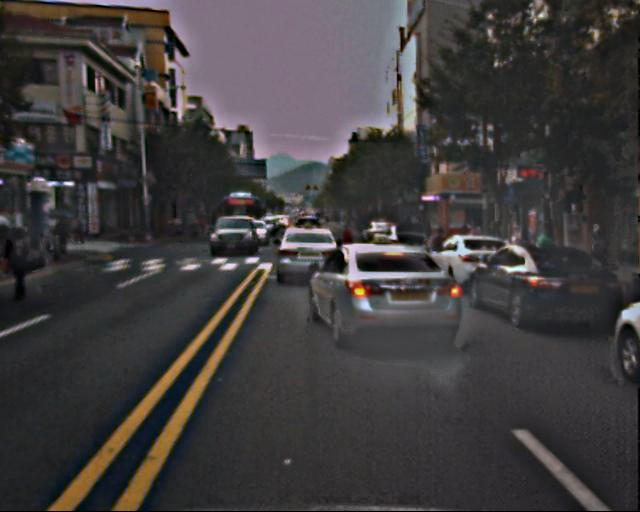person: (1, 223, 47, 290), (39, 211, 82, 250), (586, 224, 612, 287)
